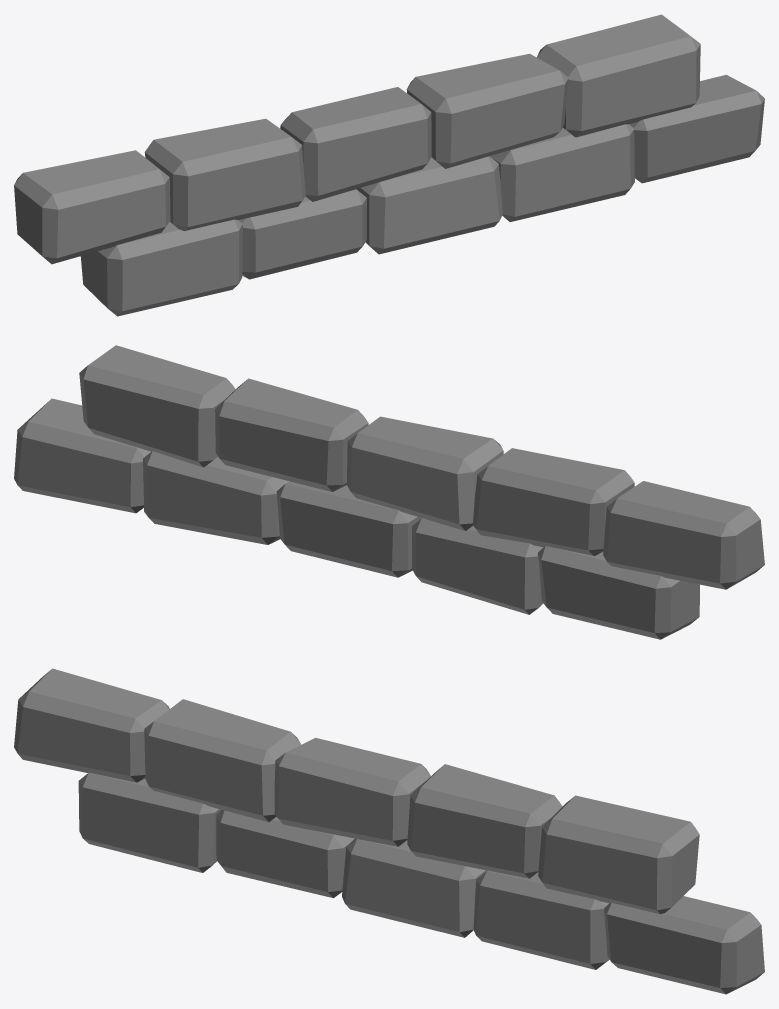
The model's file is BrickWall2mSection_01_Mid.fbx.
The picture shows the model from 3 angles, top to bottom: view 1: azimuth 30°, elevation 25°; view 2: azimuth 150°, elevation 25°; view 3: azimuth 330°, elevation 25°; orthographic projection.
Parts seen in each view (by area): view 1: BrickWall2mSection_01_Mid; view 2: BrickWall2mSection_01_Mid; view 3: BrickWall2mSection_01_Mid.
Boxes of the visible parts, x1,y1,x2,y2 form: BrickWall2mSection_01_Mid: (14,14,764,316); BrickWall2mSection_01_Mid: (14,345,764,639); BrickWall2mSection_01_Mid: (14,668,764,994).
Bounding box in the file's own units: 221 × 41.78 × 21.66.
